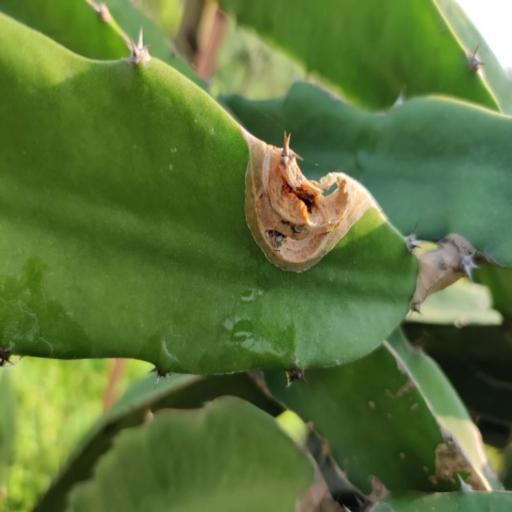stemcanker: (357, 330, 441, 499), (204, 278, 286, 360), (162, 119, 210, 185)
